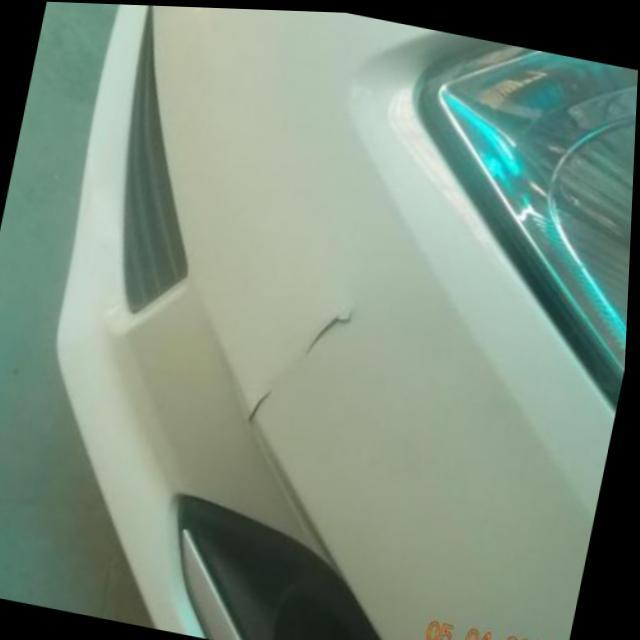crack: (306, 302, 357, 354), (245, 384, 284, 427)
